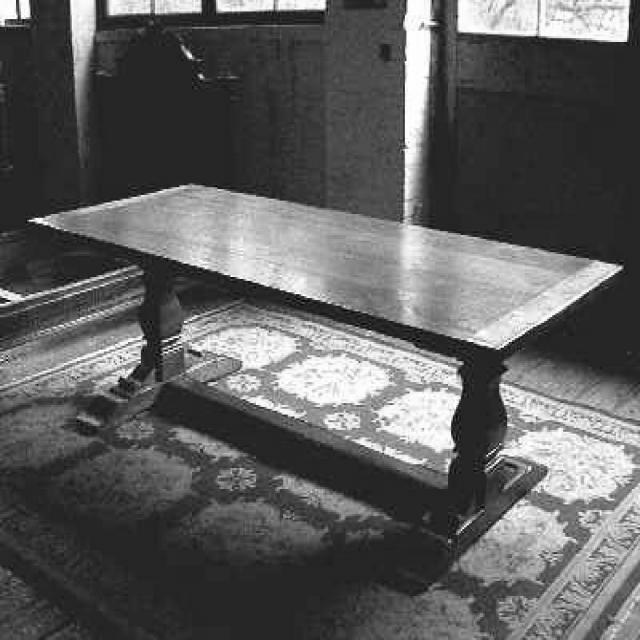table: (28, 184, 626, 602)
